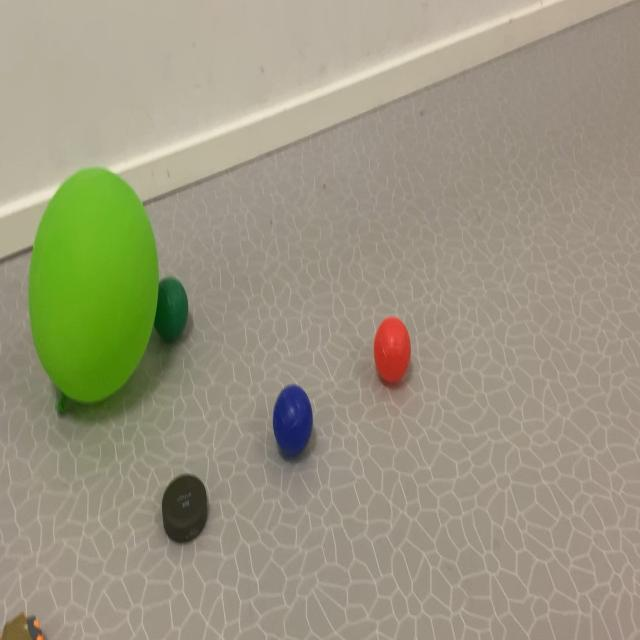7: (358, 272, 529, 619)
green ball: (252, 328, 317, 518)
red ball: (160, 246, 202, 392)
